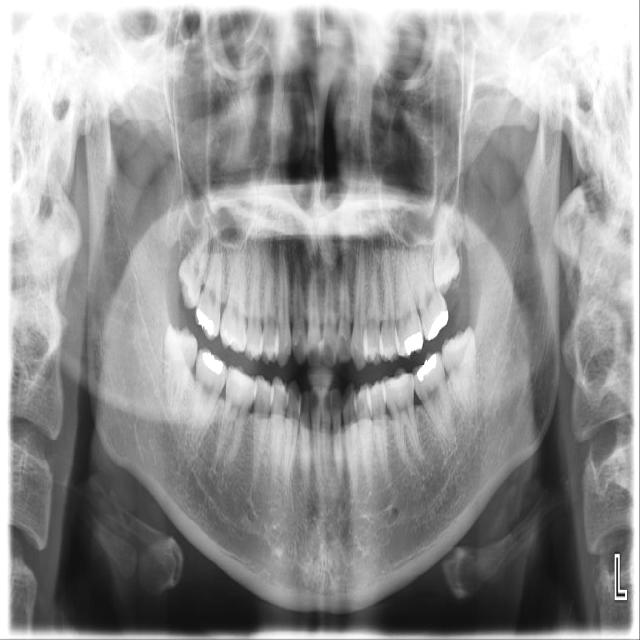Filling: (426, 309, 453, 340), (194, 307, 216, 337), (418, 353, 438, 381), (201, 351, 225, 373), (403, 333, 424, 353)
impacted tooth: (160, 328, 198, 423), (441, 330, 479, 421), (432, 204, 460, 292)
